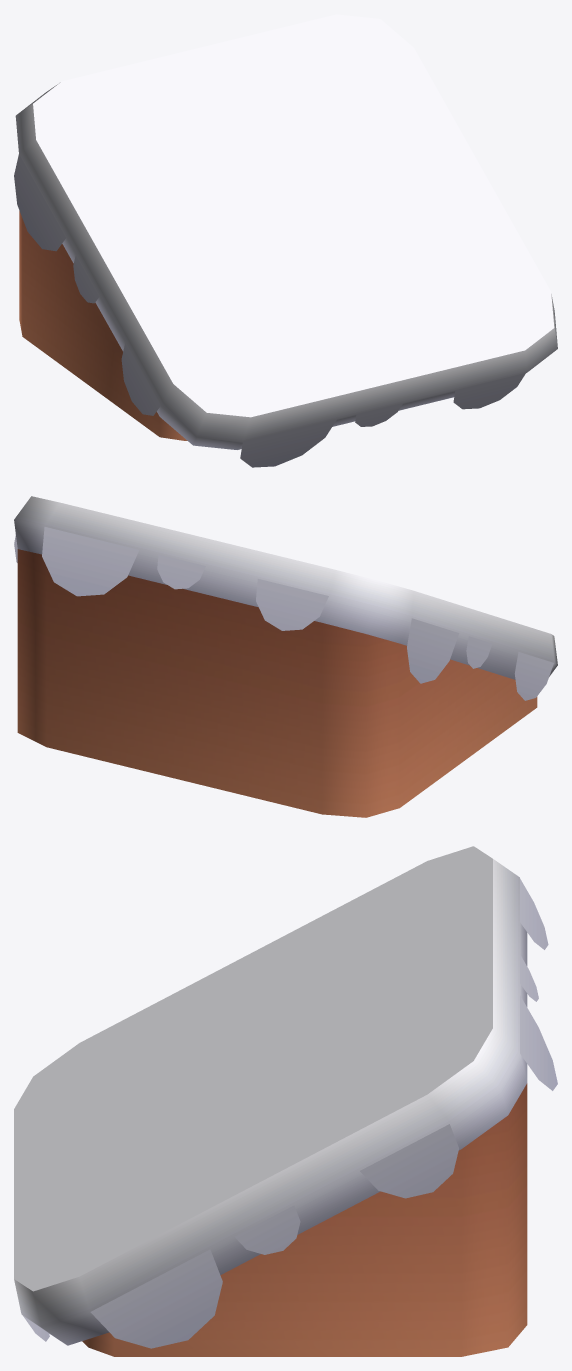
The model's file is block-snow-overhang-large-slope-steep.glb.
3 renders of one model, top to bottom at view 1: azimuth 30°, elevation 25°; view 2: azimuth 150°, elevation 25°; view 3: azimuth 270°, elevation 25°, orthographic. The views are drawn at different scales.
Visible parts, largest first — view 1: block-snow-overhang-large-slope-steep; view 2: block-snow-overhang-large-slope-steep; view 3: block-snow-overhang-large-slope-steep.
Part boxes in pixels (x1,y1,x2,y2): block-snow-overhang-large-slope-steep: [14, 14, 557, 467]; block-snow-overhang-large-slope-steep: [14, 496, 557, 817]; block-snow-overhang-large-slope-steep: [14, 846, 557, 1356].
Size of the model in its own units: 2.08 by 1.37 by 1.97.
Materials: 1 (1 with a texture image).
